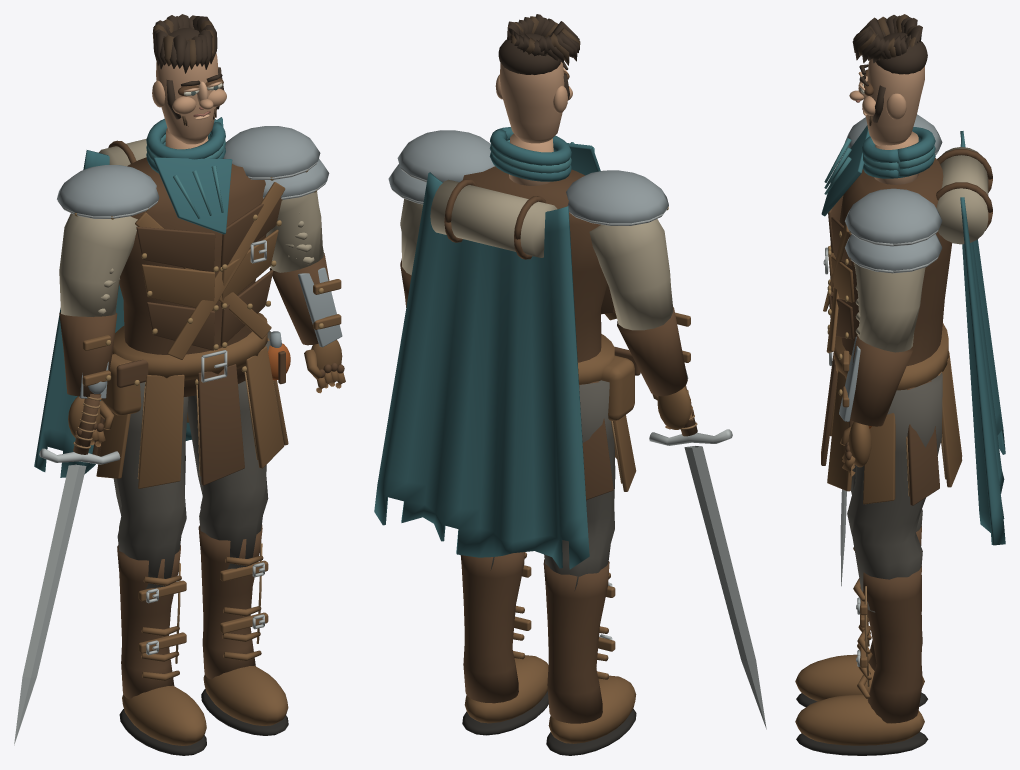
The model's file is model_player_refined.glb.
3 renders of one model, left to right at view 1: azimuth 30°, elevation 25°; view 2: azimuth 150°, elevation 25°; view 3: azimuth 270°, elevation 25°, orthographic. The views are drawn at different scales.
Visible parts, largest first — view 1: fitted layered leather cuirass, creased wool trouser, linen upper sleeve, creased wool trouser.001, shaped leather riding boot.001, shaped leather riding boot, layered leather skirt tasset, layered leather skirt tasset.008, curved overlapping steel pauldron, forged blade bevels, draped teal travel cape with torn hem, scarf front drape (+29 smaller); view 2: draped teal travel cape with torn hem, shaped leather riding boot, shaped leather riding boot.001, linen upper sleeve, fitted layered leather cuirass, rolled blanket, creased wool trouser, curved overlapping steel pauldron, forged blade bevels, curved overlapping steel pauldron.001, adult head shaped jaw and cheek planes, leather forearm gauntlet (+18 smaller); view 3: creased wool trouser.001, draped teal travel cape with torn hem, shaped leather riding boot.001, fitted layered leather cuirass, linen upper sleeve.001, rounded boot vamp.001, curved overlapping steel pauldron.001, rolled blanket, leather forearm gauntlet.001, adult head shaped jaw and cheek planes, rounded boot vamp, layered leather skirt tasset.002 (+25 smaller).
Boxes of the visible parts, <box> form: fitted layered leather cuirass: <box>119,157,266,396</box>; creased wool trouser: <box>104,382,188,589</box>; linen upper sleeve: <box>59,213,137,316</box>; creased wool trouser.001: <box>187,331,271,569</box>; shaped leather riding boot.001: <box>198,525,262,679</box>; shaped leather riding boot: <box>117,544,180,699</box>; layered leather skirt tasset: <box>197,364,244,485</box>; layered leather skirt tasset.008: <box>138,374,184,488</box>; curved overlapping steel pauldron: <box>57,165,159,216</box>; forged blade bevels: <box>14,464,86,745</box>; draped teal travel cape with torn hem: <box>34,117,223,477</box>; scarf front drape: <box>153,157,232,234</box>; draped teal travel cape with torn hem: <box>374,172,589,569</box>; shaped leather riding boot: <box>543,559,609,723</box>; shaped leather riding boot.001: <box>460,552,524,703</box>; linen upper sleeve: <box>589,219,673,330</box>; fitted layered leather cuirass: <box>463,166,607,362</box>; rolled blanket: <box>430,179,557,257</box>; creased wool trouser: <box>544,380,615,590</box>; curved overlapping steel pauldron: <box>566,170,668,223</box>; forged blade bevels: <box>684,446,766,729</box>; curved overlapping steel pauldron.001: <box>397,130,494,182</box>; adult head shaped jaw and cheek planes: <box>499,62,564,143</box>; leather forearm gauntlet: <box>617,307,687,396</box>; creased wool trouser.001: <box>847,372,942,612</box>; draped teal travel cape with torn hem: <box>960,131,1005,545</box>; shaped leather riding boot.001: <box>863,565,922,723</box>; fitted layered leather cuirass: <box>839,158,952,365</box>; linen upper sleeve.001: <box>854,263,925,352</box>; rounded boot vamp.001: <box>795,694,924,745</box>; curved overlapping steel pauldron.001: <box>845,188,942,243</box>; rolled blanket: <box>936,147,988,244</box>; leather forearm gauntlet.001: <box>850,334,912,426</box>; adult head shaped jaw and cheek planes: <box>865,59,924,146</box>; rounded boot vamp: <box>795,654,924,701</box>; layered leather skirt tasset.002: <box>863,413,895,504</box>.
Bounding box in the file's own units: 0.9499 × 1.87 × 0.5093.
